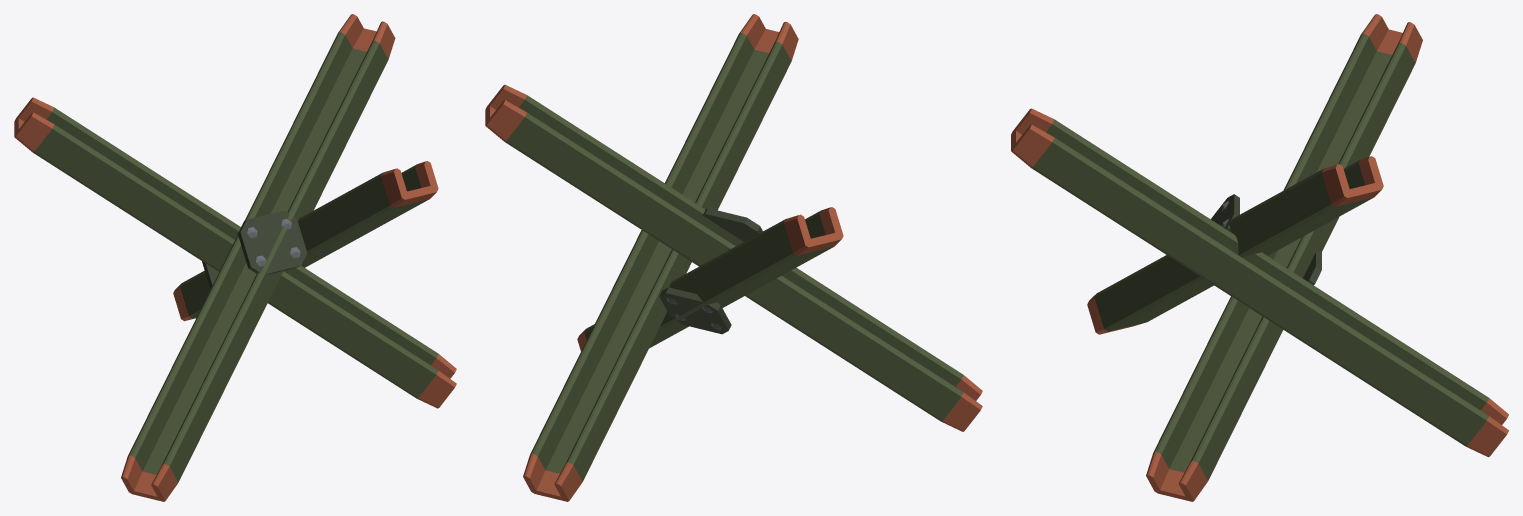
File: czech-hedgehog-d77ae5.glb
The picture shows the model from 3 angles, left to right: view 1: azimuth 30°, elevation 25°; view 2: azimuth 150°, elevation 25°; view 3: azimuth 270°, elevation 25°; orthographic projection. The views are drawn at different scales.
Visible parts, largest first — view 1: hedgehog; view 2: hedgehog; view 3: hedgehog.
Boxes of the visible parts, x1=… form: hedgehog: x1=14, y1=14, x2=456, y2=501; hedgehog: x1=485, y1=14, x2=982, y2=501; hedgehog: x1=1011, y1=14, x2=1508, y2=501.
Size of the model in its own units: 1.79 by 1.46 by 1.91.
